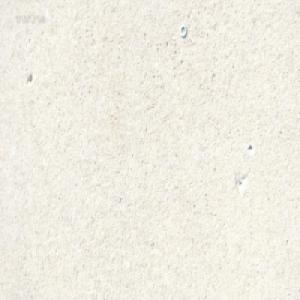Washer: (180, 22, 187, 36)
